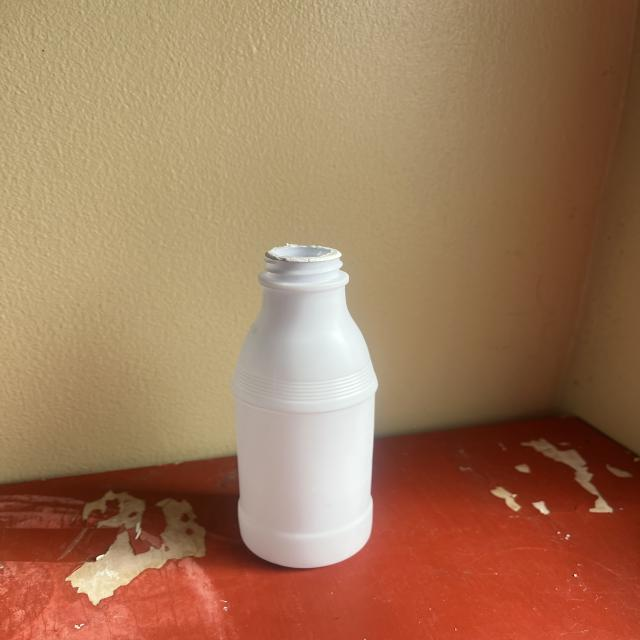HDPE_Bottle: (232, 245, 377, 567)
